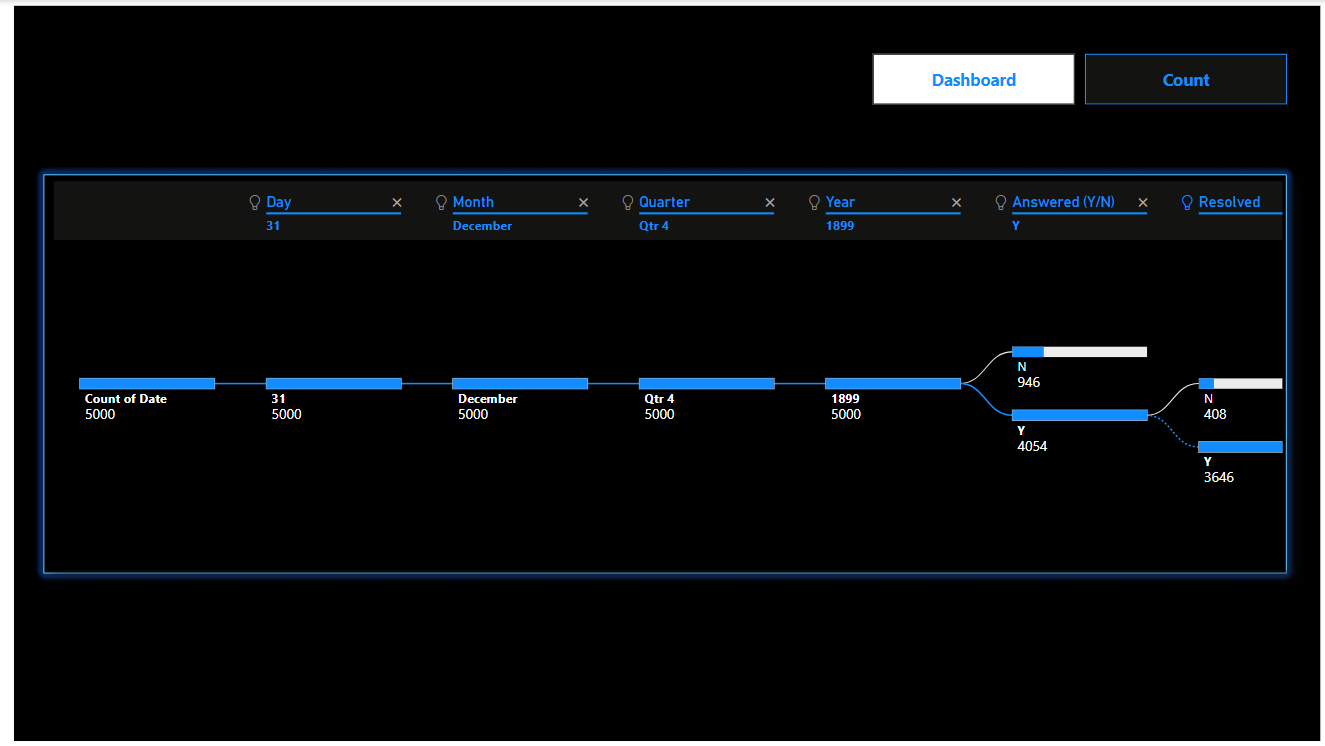

The page's visual inventory and layout, read from the dashboard file:
{"tool":"powerbi","page":{"name":"Count","canvas":[1280,720],"ordinal":1},"visuals":[{"type":"image","box":[9.7,0,1270.4,720.2],"z":0},{"type":"pageNavigator","box":[843.3,51.9,400.5,49.5],"z":1000},{"type":"decompositionTreeVisual","fields":{"Analyze":["CountNonNull(Sheet1.Date)"],"ExplainBy":["Sheet1.Time.Variation.Date Hierarchy.Day","Sheet1.Time.Variation.Date Hierarchy.Month","Sheet1.Time.Variation.Date Hierarchy.Quarter","Sheet1.Time.Variation.Date Hierarchy.Year","Sheet1.Answered (Y/N)","Sheet1.Resolved","Sheet1.Topic","Sheet1.Agent","Sheet1.Satisfaction rating","Sheet1.Speed of answer in seconds"]},"box":[48.3,170.1,1195.6,380],"z":2000}]}

Visuals, with their boxes in screenshot pixels (x1, y1, x2, y2), scaled from the page's 1280x720 canvas onto the 1325x746 screenshot:
image: bbox=(10, 0, 1324, 745)
pageNavigator: bbox=(873, 54, 1288, 105)
decompositionTreeVisual - CountNonNull(Sheet1.Date) x Sheet1.Time.Variation.Date Hierarchy.Day: bbox=(50, 176, 1288, 570)
